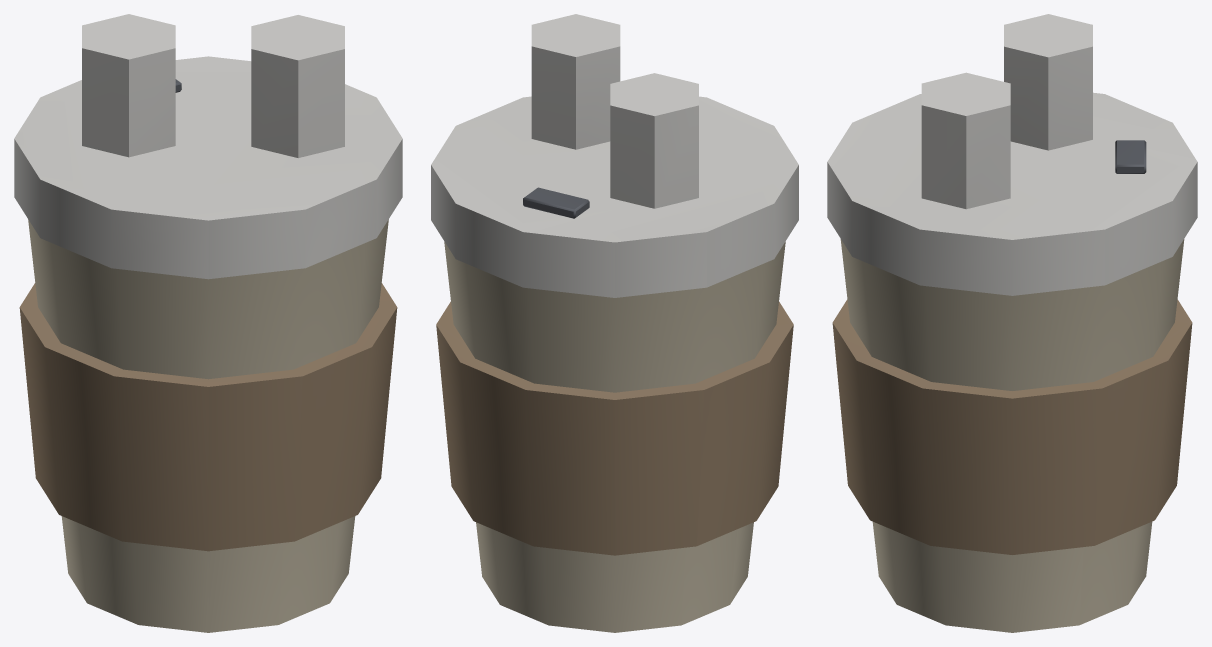
File: snack_cocoa.glb
3 views of the same model, side by side, from view 1: azimuth 30°, elevation 25°; view 2: azimuth 150°, elevation 25°; view 3: azimuth 270°, elevation 25° (orthographic). The views are drawn at different scales.
Visible parts, largest first — view 1: snack_cocoa; view 2: snack_cocoa; view 3: snack_cocoa.
Part boxes in pixels (<box>): snack_cocoa: <box>14,14,402,632</box>; snack_cocoa: <box>431,14,798,632</box>; snack_cocoa: <box>827,14,1197,632</box>.
Bounding box in the file's own units: 0.072 × 0.11 × 0.072.
